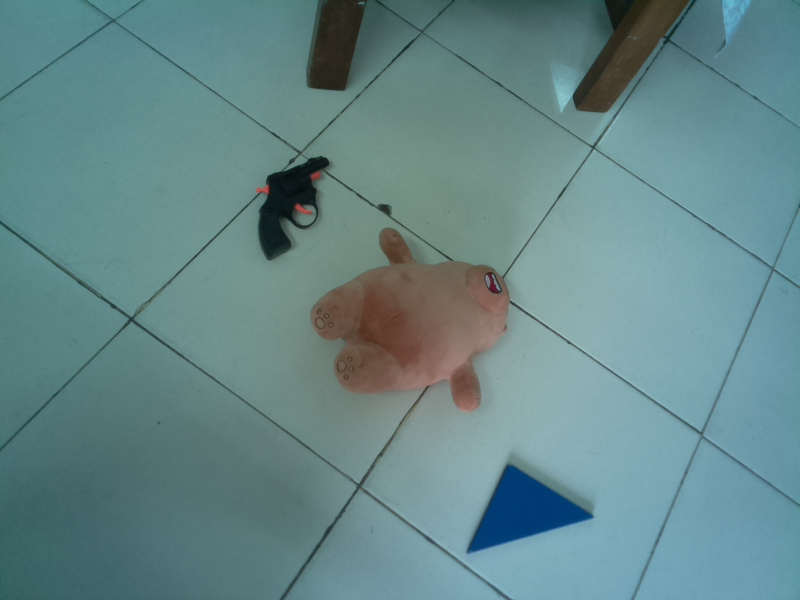Gun: (254, 152, 335, 262)
Triangle: (460, 456, 601, 562)
